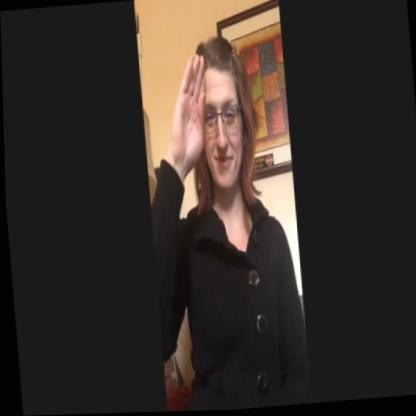Hello: (158, 17, 270, 230)
